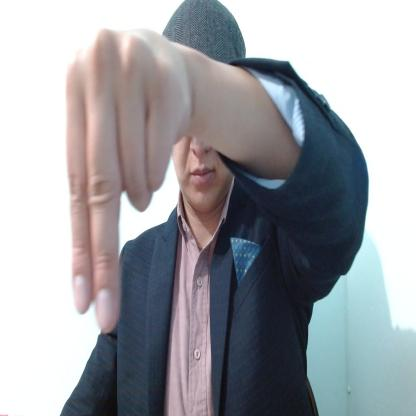N: (66, 25, 196, 337)
